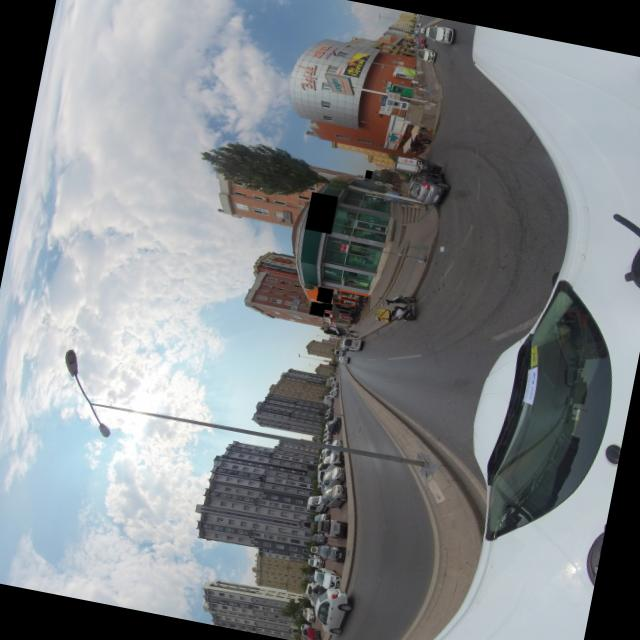SignStore: (305, 193, 338, 232), (319, 286, 332, 303), (312, 301, 324, 316), (323, 302, 332, 310), (365, 170, 373, 178), (325, 312, 330, 316)
